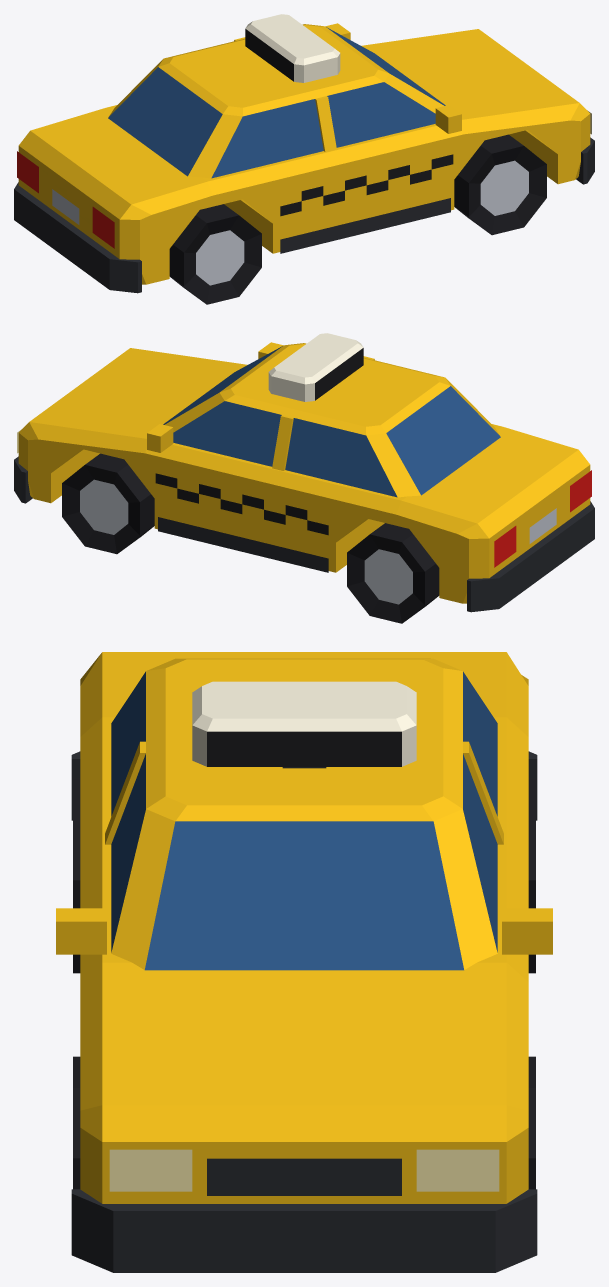
The model's file is taxi.glb.
The picture shows the model from 3 angles, top to bottom: view 1: azimuth 30°, elevation 25°; view 2: azimuth 150°, elevation 25°; view 3: azimuth 270°, elevation 25°; orthographic projection. The views are drawn at different scales.
Parts seen in each view (by area): view 1: Body; view 2: Body; view 3: Body.
Boxes of the visible parts, <box> form: Body: <box>14,14,594,304</box>; Body: <box>14,333,594,623</box>; Body: <box>56,652,552,1272</box>.
Size of the model in its own units: 0.46 by 0.173 by 0.204.
